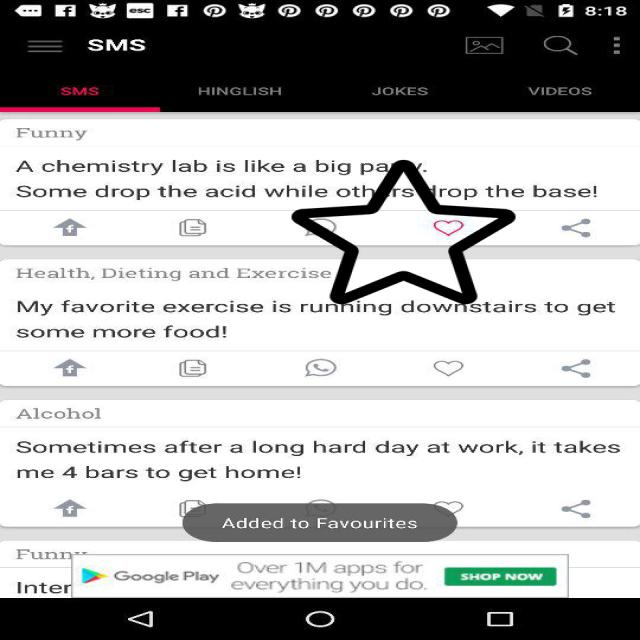forced continuity: (292, 157, 516, 307)
